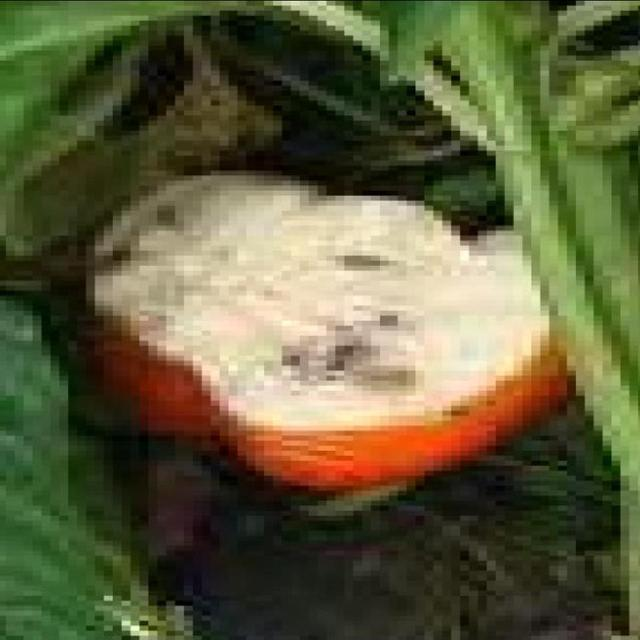Sunscald Fruit: (40, 100, 366, 283)
